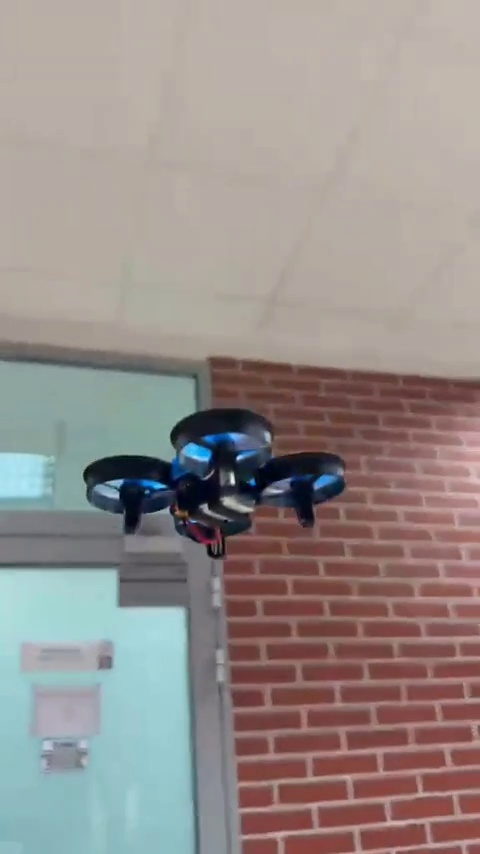drone: (80, 406, 346, 553)
